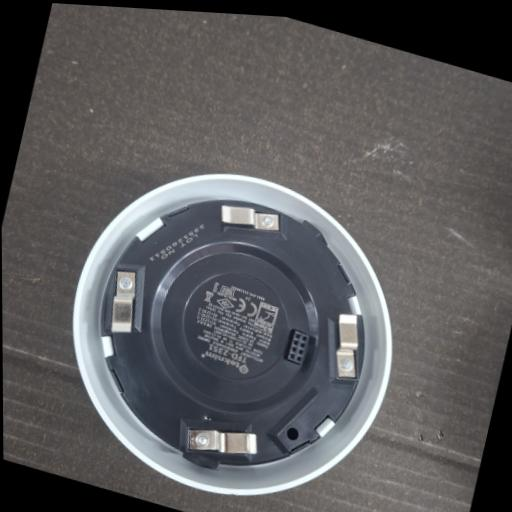yaysiz: (169, 402, 264, 482), (97, 254, 158, 347), (314, 305, 374, 393), (216, 198, 283, 241)
